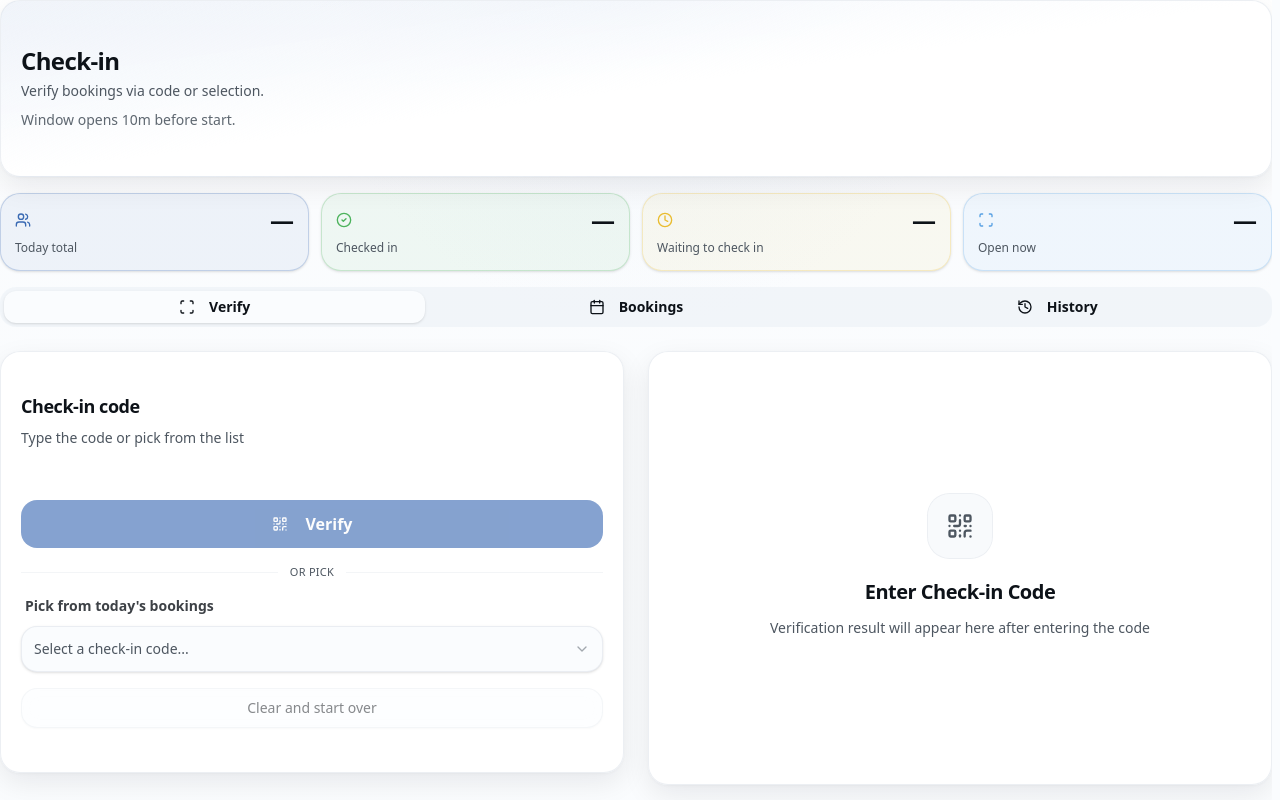
Test: CheckInPage › shows completed status for checked-out bookings
Press the mouse on the tab "Bookings" at (636, 307), box [425,291,847,323]
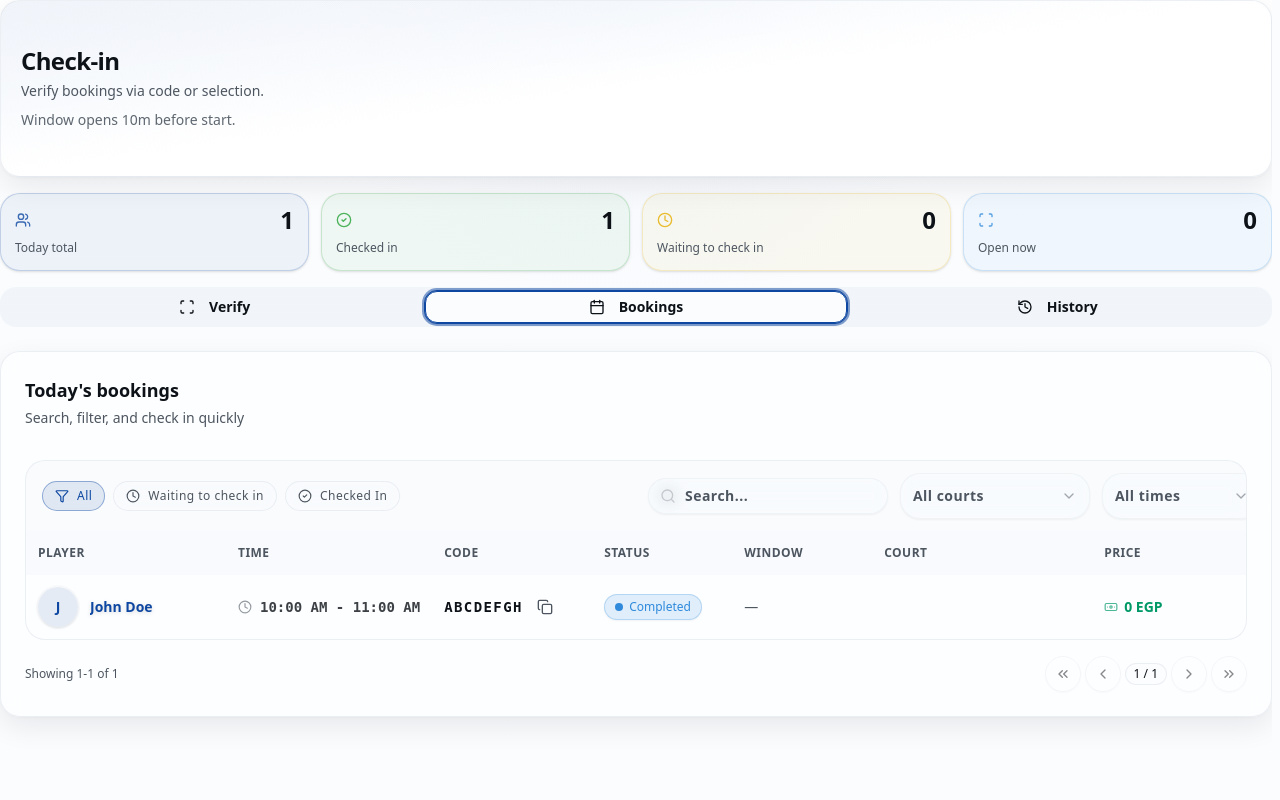
Result: the table is shown at [26,461,1246,639]
Result: the text "John Doe" is shown at [90,597,153,617]
Result: the text "Completed" is shown at [604,594,702,620]
